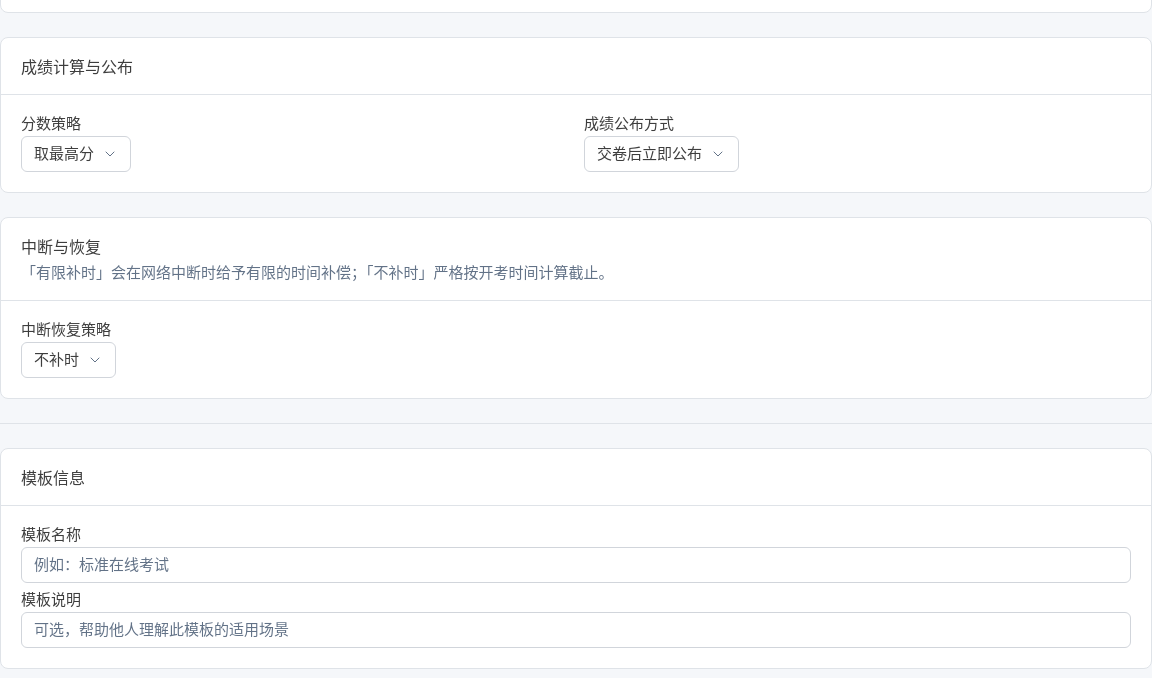
Test: ExamProfileEditPage — conditional fields › shows grace caps when interruption policy becomes bounded_grace
This screenshot has width=1152, height=678.
(page scrolled)
Click the dropdown named "中断恢复策略". click: {"x": 68, "y": 360}
box: [21, 342, 116, 378]
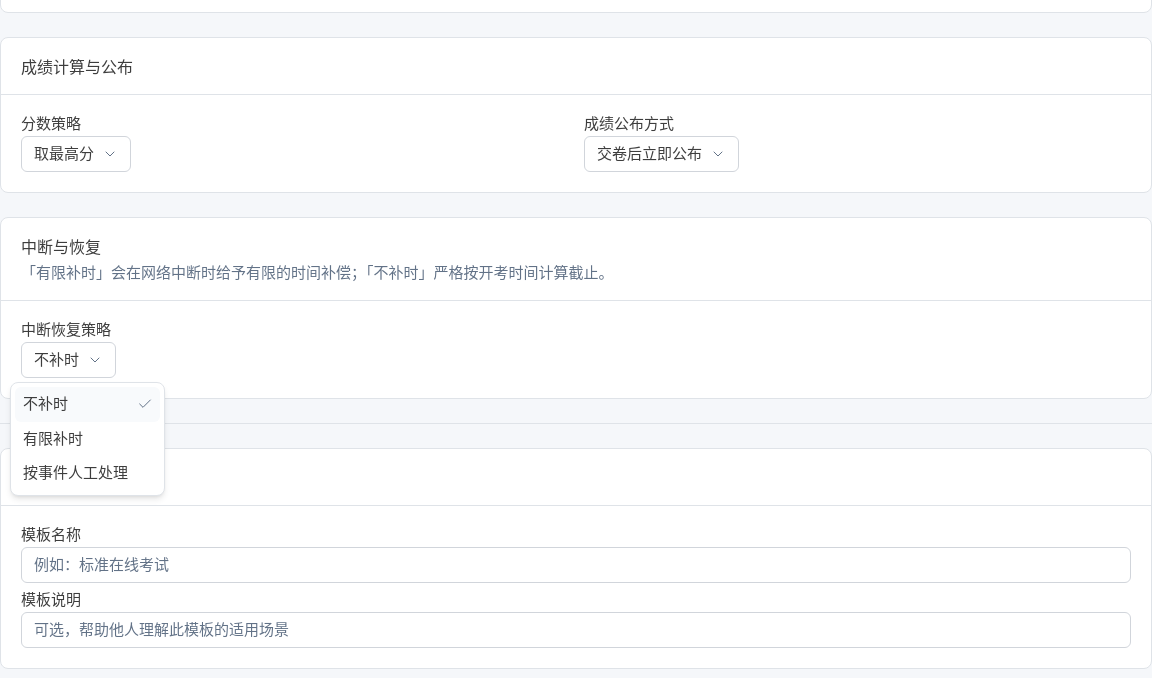
Click the option "有限补时". click: {"x": 53, "y": 438}
box: [23, 430, 83, 448]
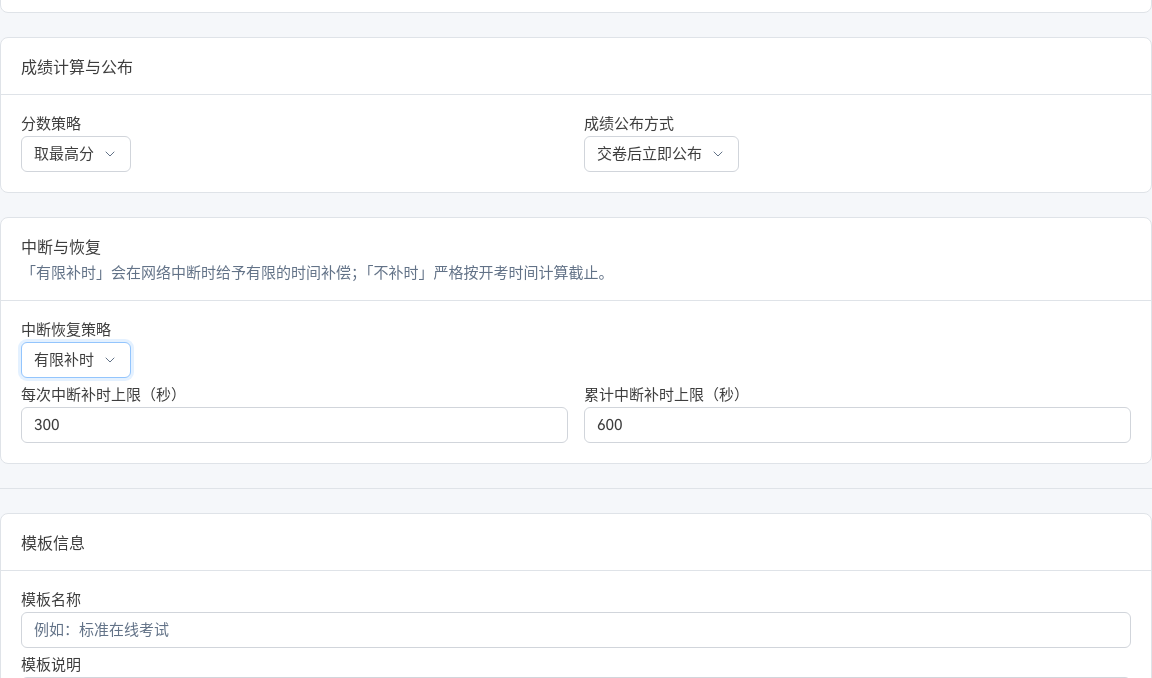
Expected: the number field labelled "每次中断补时上限（秒）" is shown, [21, 407, 568, 443]
Expected: the number field labelled "累计中断补时上限（秒）" is shown, [584, 407, 1131, 443]
